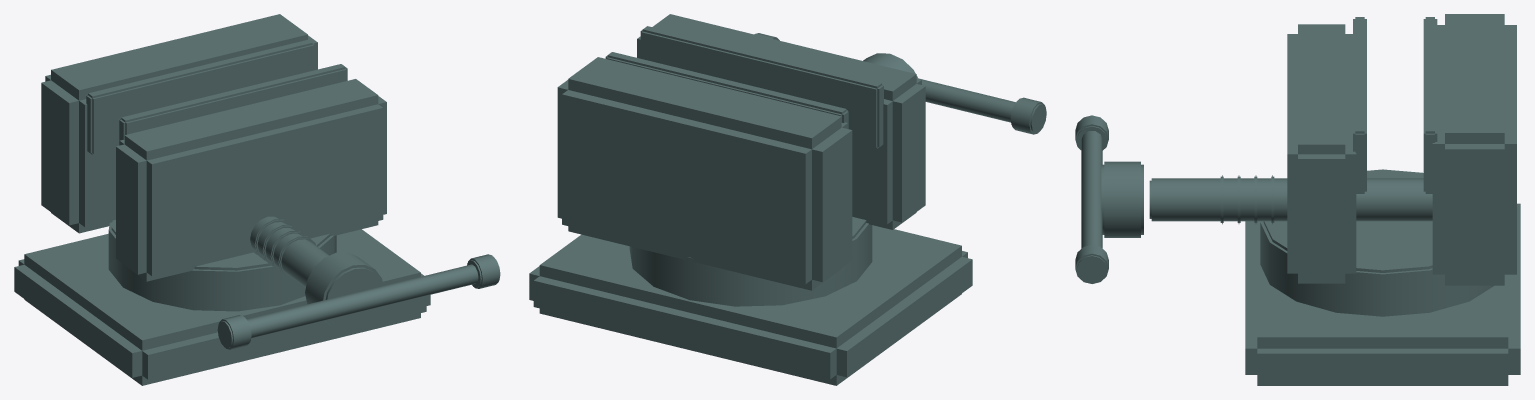
Rendered from OBJ-018_Mordaza.fbx.
3 renders of one model, left to right at view 1: azimuth 30°, elevation 25°; view 2: azimuth 150°, elevation 25°; view 3: azimuth 270°, elevation 25°, orthographic. The views are drawn at different scales.
Parts seen in each view (by area): view 1: GEO-OBJ-018_Mordaza.005; view 2: GEO-OBJ-018_Mordaza.005; view 3: GEO-OBJ-018_Mordaza.005.
Part boxes in pixels (x1,y1,x2,y2): GEO-OBJ-018_Mordaza.005: [14, 14, 500, 385]; GEO-OBJ-018_Mordaza.005: [529, 14, 1046, 385]; GEO-OBJ-018_Mordaza.005: [1075, 14, 1520, 385].
Bounding box in the file's own units: 0.24 × 0.173 × 0.291.
